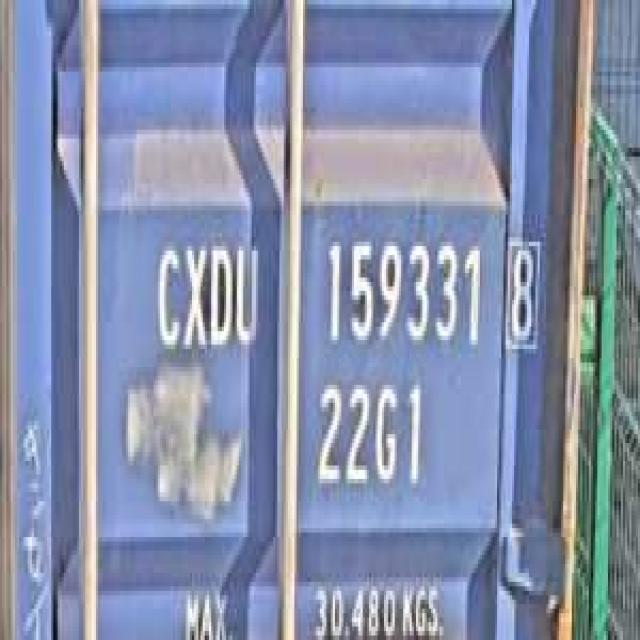dv: (502, 232, 543, 353)
owner: (150, 233, 262, 358)
serial: (318, 224, 484, 358)
size: (312, 372, 426, 502)
